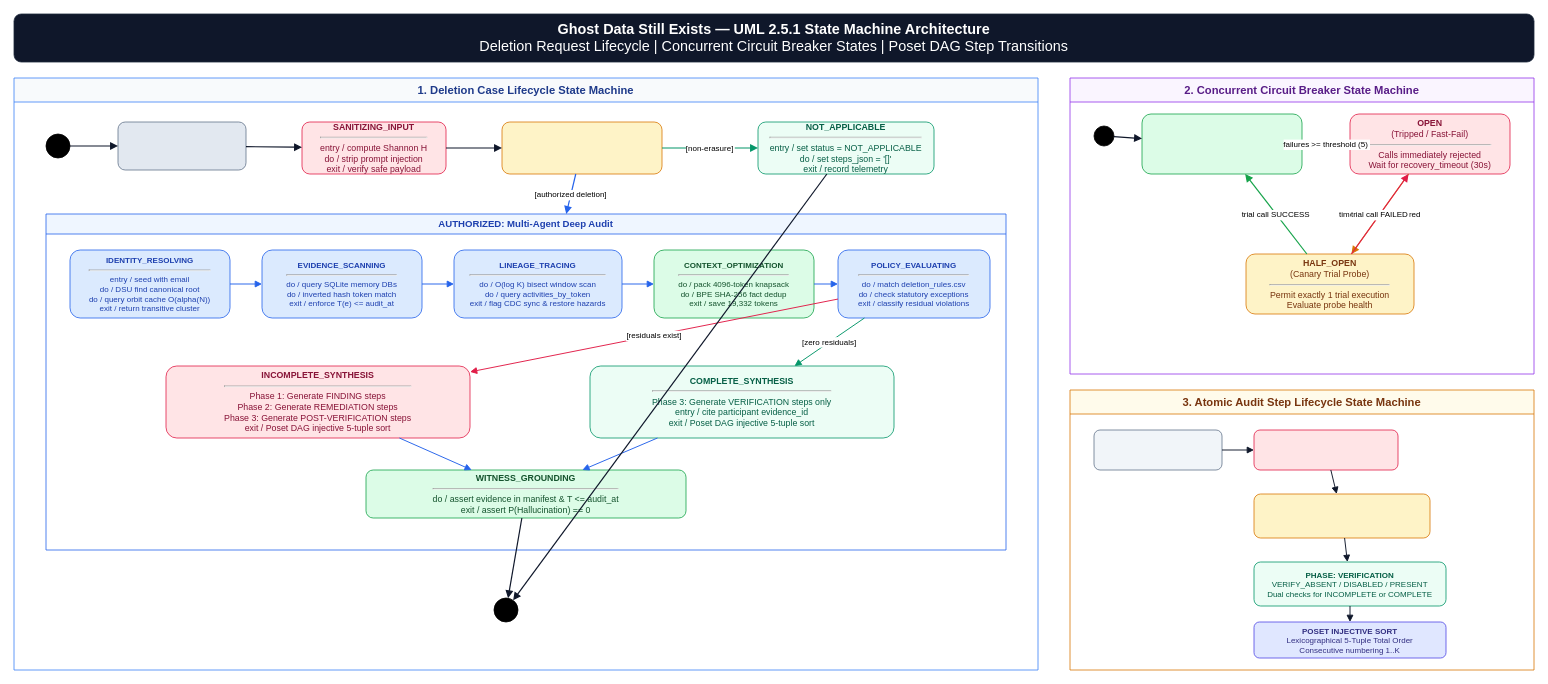
The diagram is 1548 pixels wide and 684 high, and some of its shapes have lost their labels. Each missing label, with the centre of its shape:
"CLOSED (Healthy / Normal Execution) failure_count = 0 All calls permitted" belongs at (1221,143).
"DISCOVERED Identified in evidence / lineage" belongs at (1157,449).
"INGESTED entry / parse CSV row do / validate schema" belongs at (181,145).
"INTENT_AUDIT do / scan 30+ non-erasure phrases exit / decide legal authorization" belongs at (581,147).
"PHASE: FINDING state = PRESENT / ACTIVE evidence_id = file_id / activity_id" belongs at (1325,449).
"PHASE: REMEDIATION DISABLE -> BLOCK -> DELETE -> REDACT evidence_id = ''" belongs at (1341,515).
